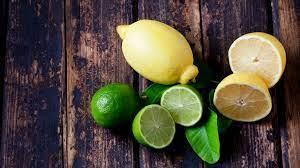lemon: (117, 19, 198, 85), (228, 32, 286, 88), (214, 71, 273, 122)
